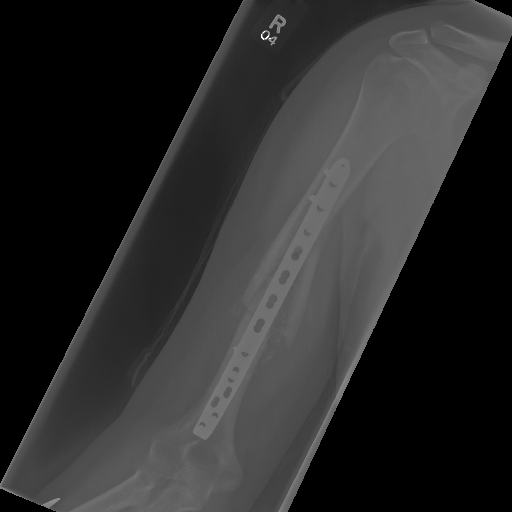implant: (195, 158, 352, 439)
